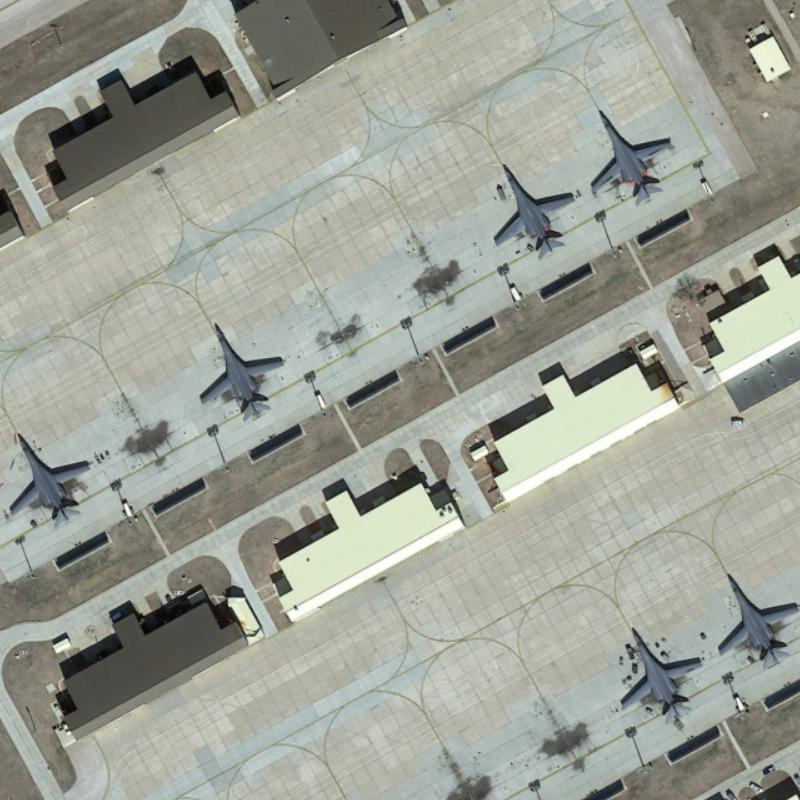A10: (188, 315, 291, 425), (581, 104, 681, 207), (614, 620, 709, 728), (489, 156, 578, 260), (715, 559, 799, 666), (6, 429, 97, 522)
